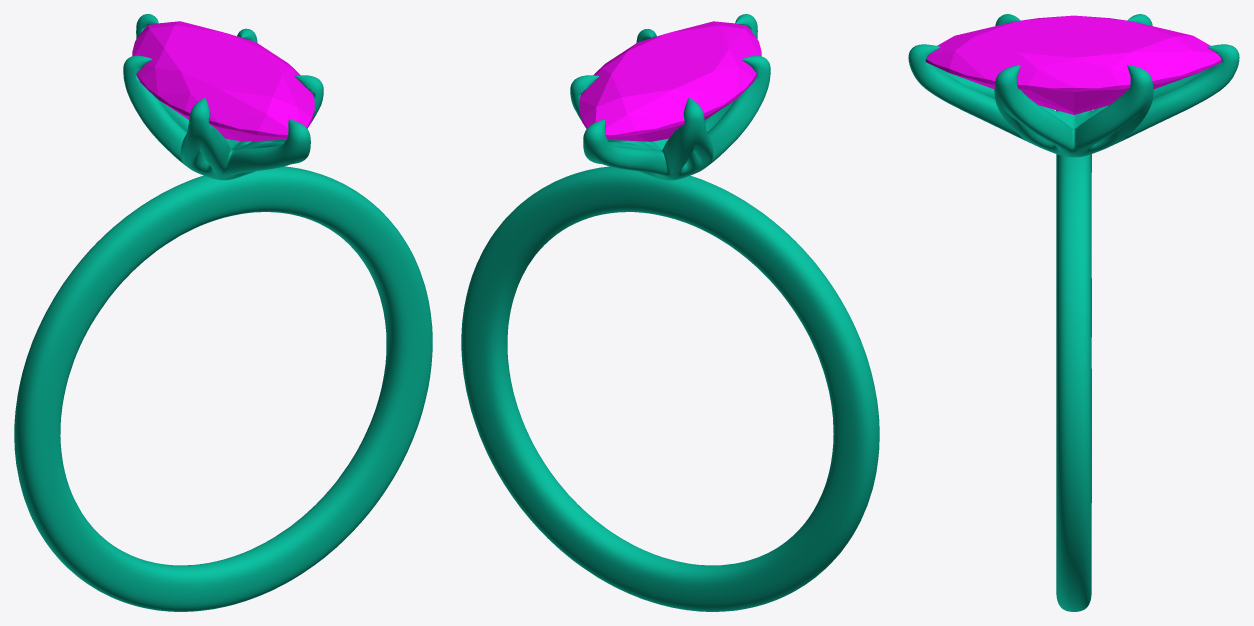
The model's file is BE1902_MQ_200ct_RENDER.glb.
3 views of the same model, side by side, from view 1: azimuth 30°, elevation 25°; view 2: azimuth 150°, elevation 25°; view 3: azimuth 270°, elevation 25° (orthographic).
Parts seen in each view (by area): view 1: Metal 01, CS_Diamond_Marquise; view 2: Metal 01, CS_Diamond_Marquise; view 3: Metal 01, CS_Diamond_Marquise.
Boxes of the visible parts, bbox=[...] form: Metal 01: bbox=[14, 14, 432, 611]; CS_Diamond_Marquise: bbox=[132, 21, 314, 141]; Metal 01: bbox=[461, 14, 879, 611]; CS_Diamond_Marquise: bbox=[579, 21, 761, 141]; Metal 01: bbox=[908, 14, 1239, 611]; CS_Diamond_Marquise: bbox=[925, 15, 1222, 114].
Bounding box in the file's own units: 20.5 × 25.79 × 14.01.
